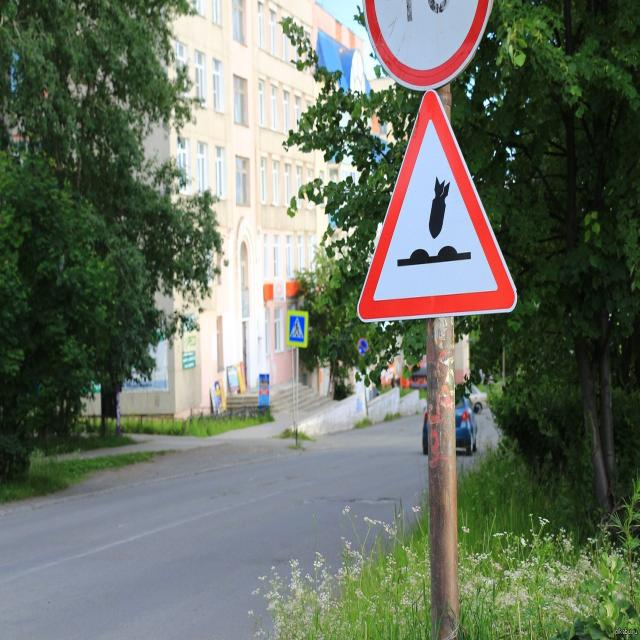Traffic sign: (339, 94, 522, 326), (359, 0, 498, 94), (284, 309, 311, 353)
